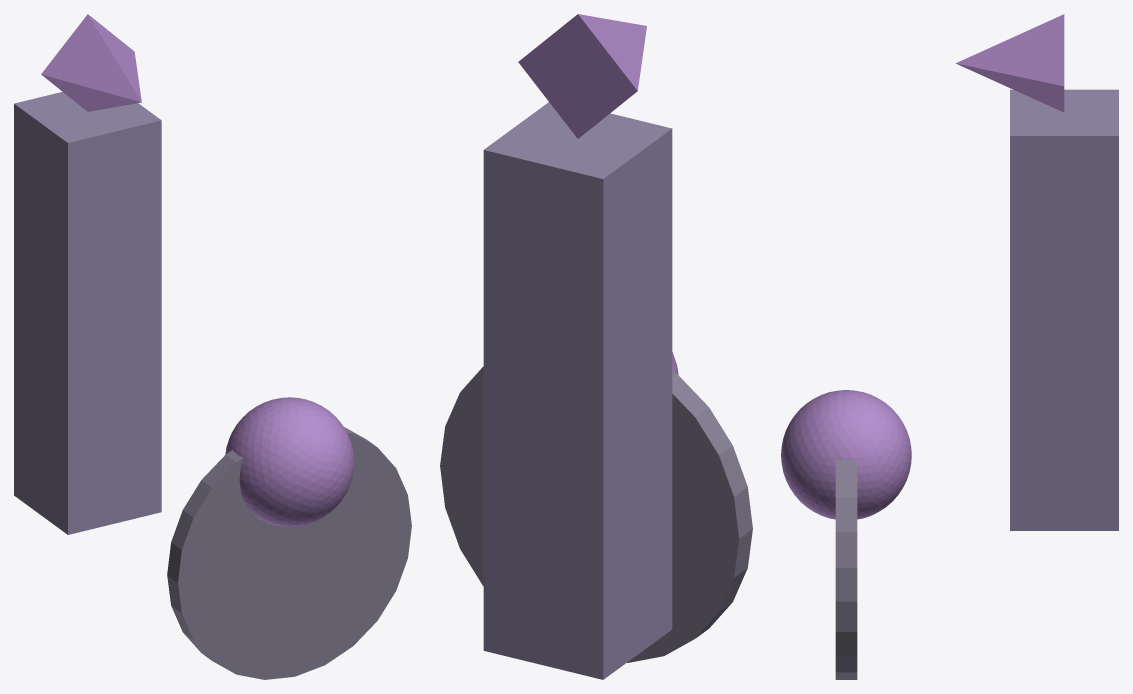
The model's file is special.glb.
3 renders of one model, left to right at view 1: azimuth 30°, elevation 25°; view 2: azimuth 150°, elevation 25°; view 3: azimuth 270°, elevation 25°, orthographic. The views are drawn at different scales.
Visible parts, largest first — view 1: part_1, part_3, part_4, part_2; view 2: part_1, part_3, part_2; view 3: part_1, part_4, part_2, part_3.
Boxes of the visible parts, x1,y1,x2,y2 form: part_1: (14,92,161,534); part_3: (167,427,411,679); part_4: (225,397,354,526); part_2: (41,14,141,111); part_1: (483,102,672,679); part_3: (440,366,752,662); part_2: (518,14,646,138); part_1: (1010,89,1118,530); part_4: (781,390,911,519); part_2: (956,14,1064,112); part_3: (835,459,857,679).
Size of what is drawn, in the model's own units: 5.5 by 12.3 by 6.2.
